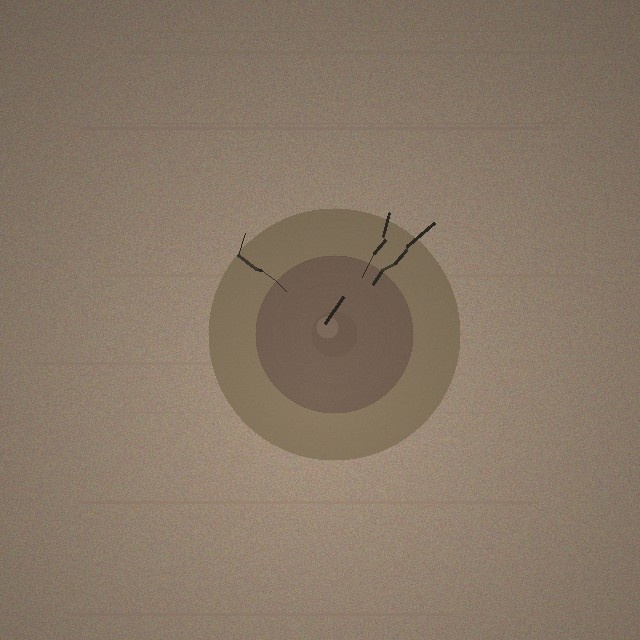crack: (208, 208, 460, 460)
